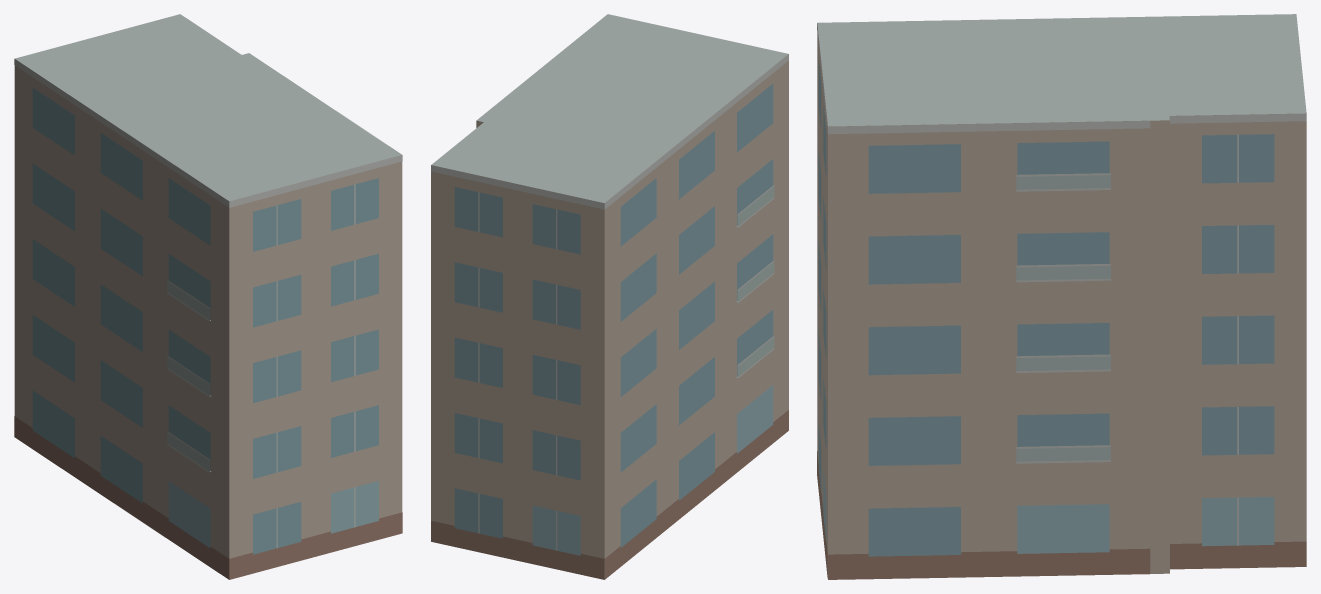
File: survey-upis-32709025.glb
The picture shows the model from 3 angles, left to right: view 1: azimuth 30°, elevation 25°; view 2: azimuth 150°, elevation 25°; view 3: azimuth 270°, elevation 25°; orthographic projection. The views are drawn at different scales.
Parts seen in each view (by area): view 1: survey-upis-32709025.tmp; view 2: survey-upis-32709025.tmp; view 3: survey-upis-32709025.tmp.
Part boxes in pixels (<box>): survey-upis-32709025.tmp: <box>14,14,402,579</box>; survey-upis-32709025.tmp: <box>431,14,788,579</box>; survey-upis-32709025.tmp: <box>817,14,1306,579</box>.
Size of the model in its own units: 7.62 by 14.3 by 14.
